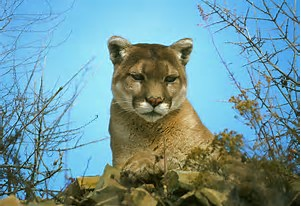Mountain Lion: (111, 38, 219, 179), (107, 36, 195, 119)
